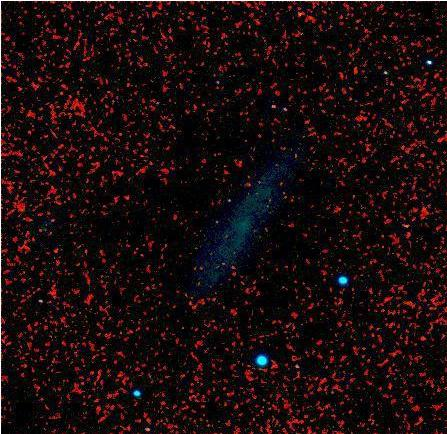star: (201, 209, 231, 239)
